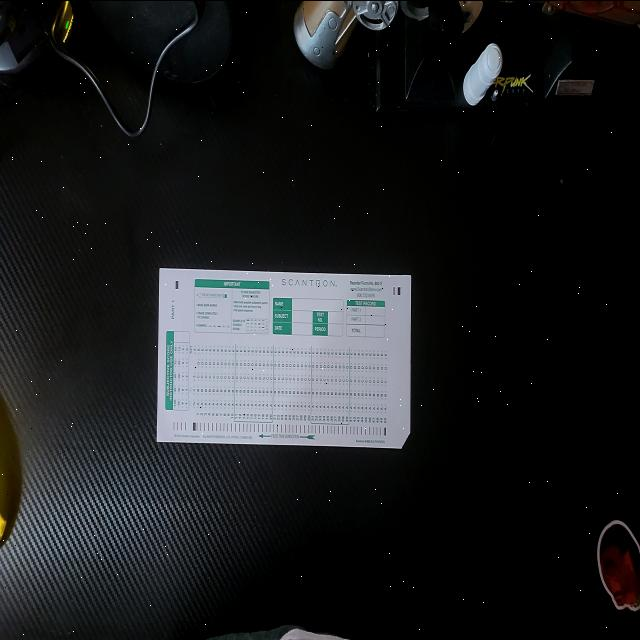scantron: (156, 267, 412, 447)
